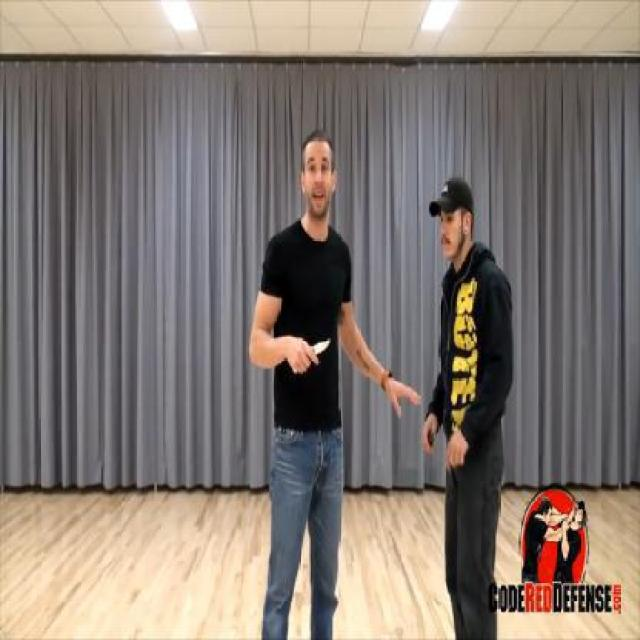knife: (291, 334, 332, 374)
